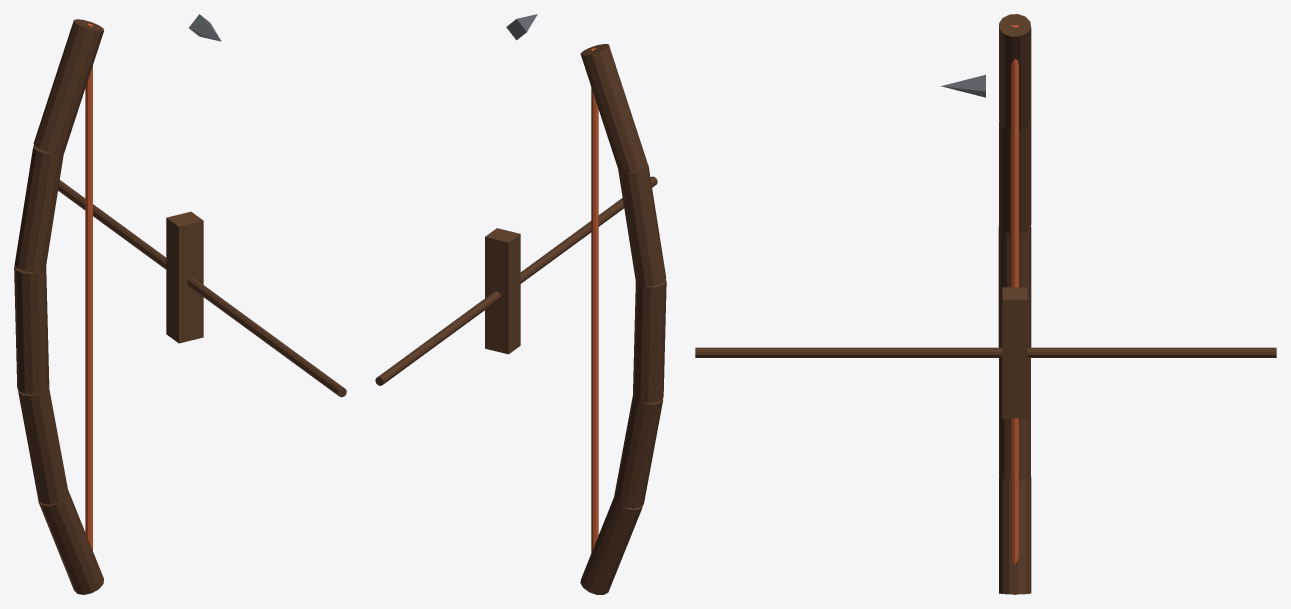
File: longbow.glb
3 views of the same model, side by side, from view 1: azimuth 30°, elevation 25°; view 2: azimuth 150°, elevation 25°; view 3: azimuth 270°, elevation 25° (orthographic). The views are drawn at different scales.
Visible parts, largest first — view 1: longbow_5, longbow_4, longbow_2, longbow_3, longbow_6, longbow_1, longbow_7, longbow_0, longbow_8; view 2: longbow_5, longbow_4, longbow_2, longbow_3, longbow_6, longbow_1, longbow_0, longbow_7, longbow_8; view 3: longbow_7, longbow_5, longbow_0, longbow_4, longbow_6, longbow_3, longbow_2, longbow_1.
Part boxes in pixels (<box>): longbow_5: <box>166,211,203,343</box>; longbow_4: <box>33,19,104,154</box>; longbow_2: <box>14,266,49,394</box>; longbow_3: <box>14,145,63,272</box>; longbow_6: <box>85,23,92,550</box>; longbow_1: <box>17,386,68,504</box>; longbow_7: <box>58,180,346,397</box>; longbow_0: <box>38,490,103,594</box>; longbow_8: <box>189,14,221,41</box>; longbow_5: <box>485,228,520,354</box>; longbow_4: <box>580,44,647,173</box>; longbow_2: <box>633,280,666,403</box>; longbow_3: <box>618,164,666,286</box>; longbow_6: <box>591,48,598,552</box>; longbow_1: <box>614,396,663,508</box>; longbow_0: <box>580,497,642,594</box>; longbow_7: <box>375,176,657,385</box>; longbow_8: <box>506,14,537,40</box>; longbow_7: <box>695,347,1276,357</box>; longbow_5: <box>1002,287,1027,418</box>; longbow_0: <box>999,477,1031,594</box>; longbow_4: <box>999,14,1031,131</box>; longbow_6: <box>1011,25,1018,594</box>; longbow_3: <box>999,121,1031,235</box>; longbow_2: <box>998,226,1031,347</box>; longbow_1: <box>999,358,1030,480</box>.
Size of the model in its own units: 1.17 by 3.51 by 3.2.
